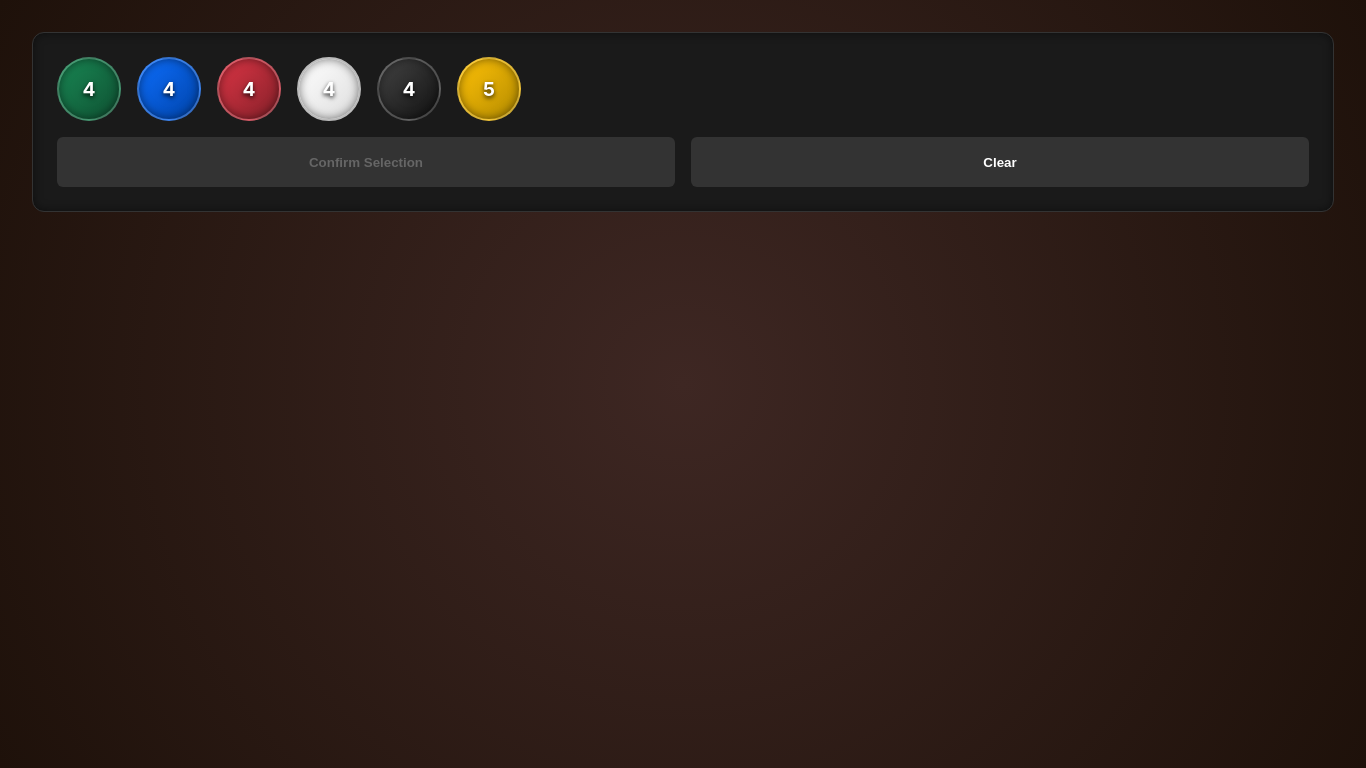
Scenario: Bank › should clear selection
Step 1. Click the element with class "gem-Emerald" → (89, 89), box 57,57 -> 121,121
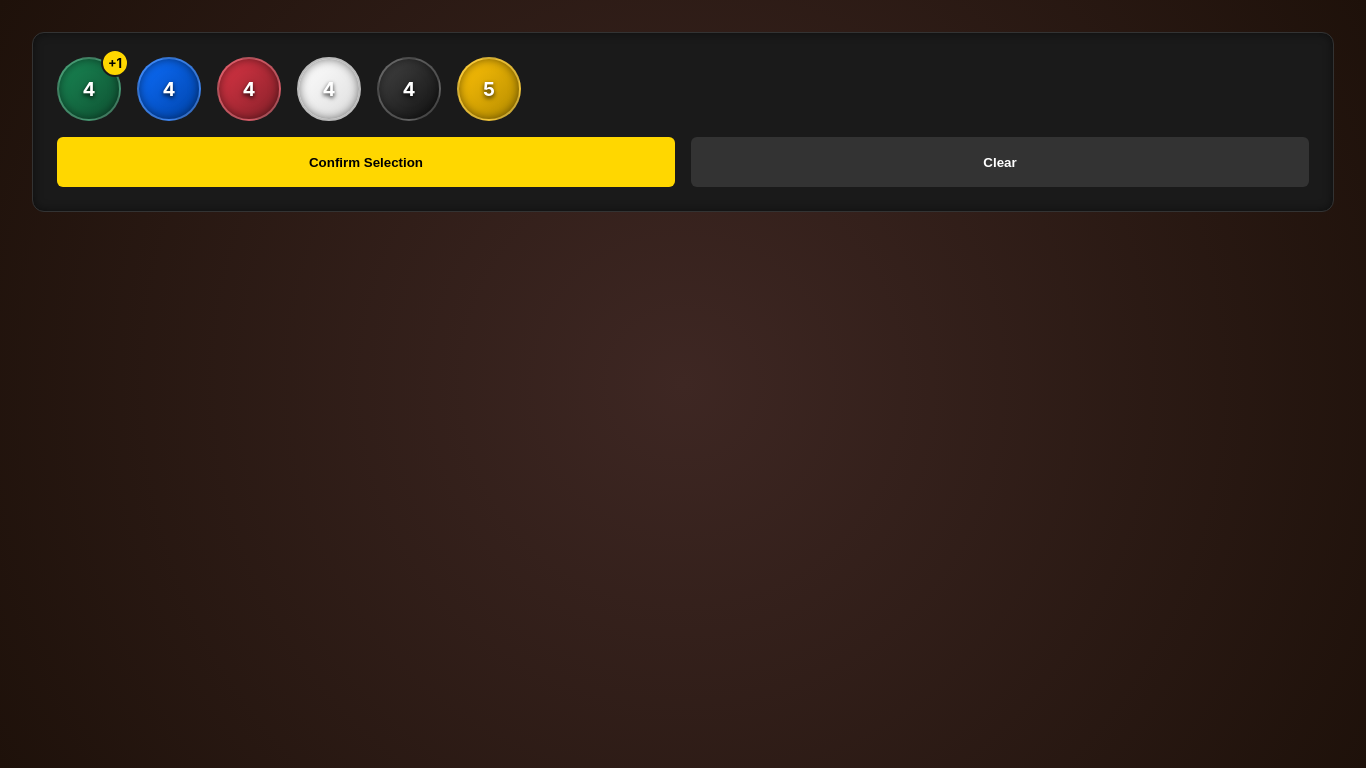
Step 2. Click the button "Clear" → (1000, 162), box 691,137 -> 1309,187
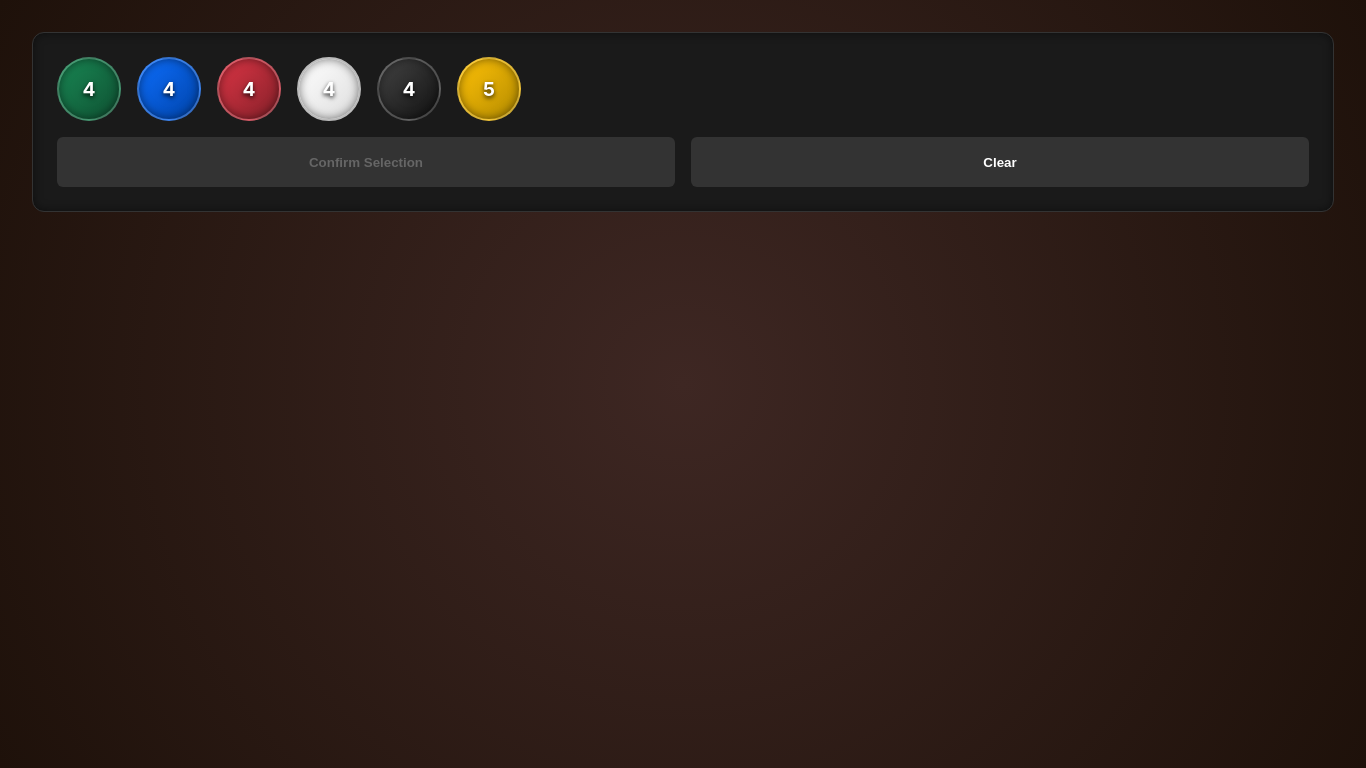
Expected: the button "Confirm Selection" is disabled, 57,137 -> 675,187
